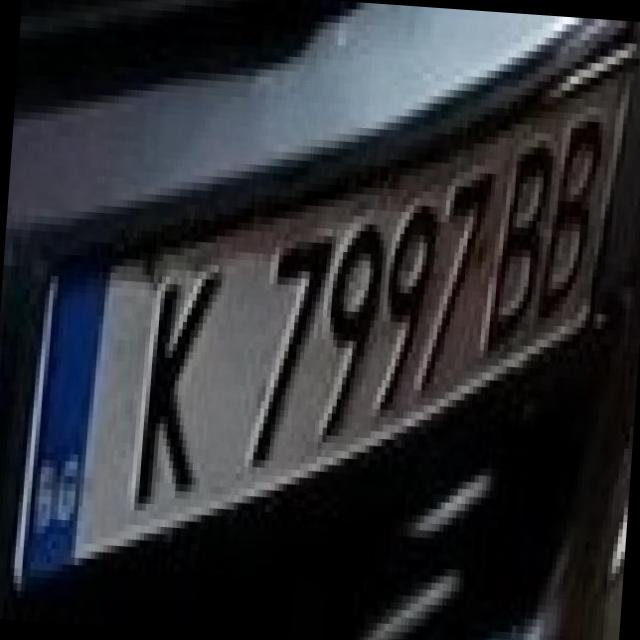7: (228, 208, 338, 464), (409, 146, 501, 388)
8: (476, 107, 564, 339), (526, 96, 612, 321)
9: (302, 191, 398, 446), (355, 172, 447, 428)
K: (114, 236, 236, 508)
